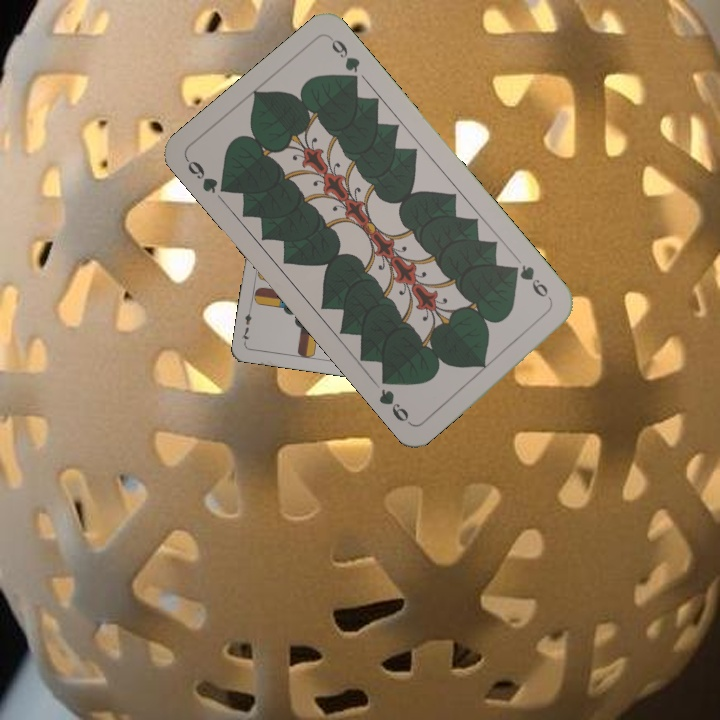G9: (182, 155, 234, 197), (506, 260, 551, 300)
